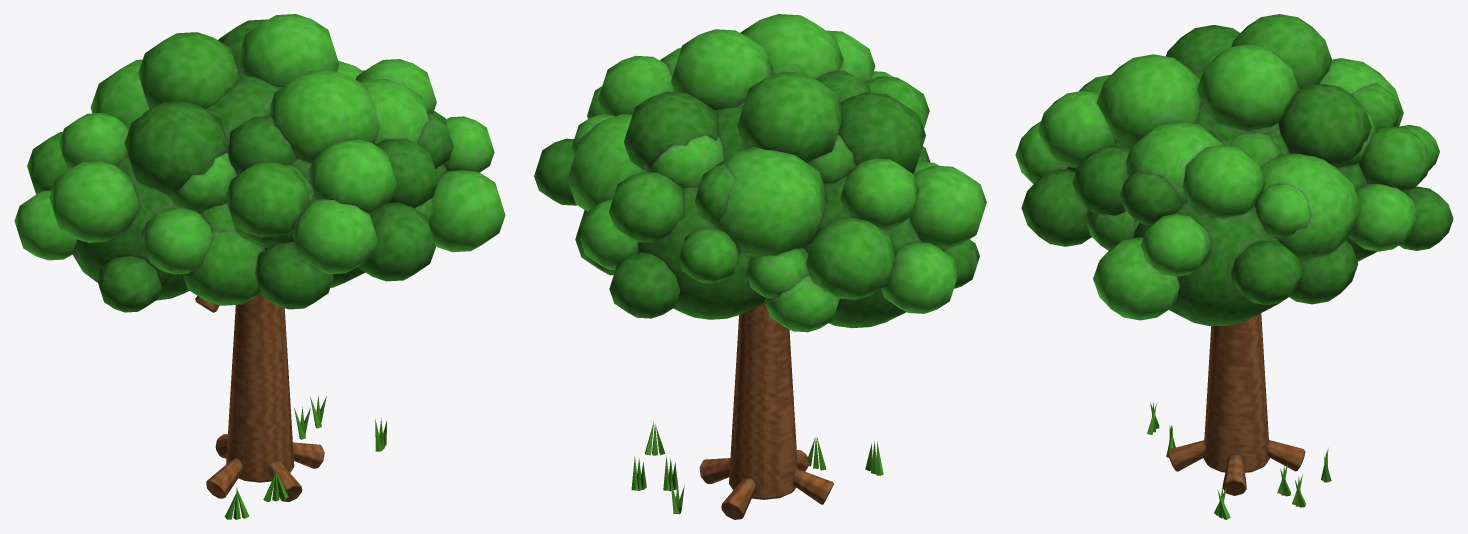
Rendered from cashew_tree.glb.
The picture shows the model from 3 angles, left to right: view 1: azimuth 30°, elevation 25°; view 2: azimuth 150°, elevation 25°; view 3: azimuth 270°, elevation 25°; orthographic projection. The views are drawn at different scales.
Parts seen in each view (by area): view 1: crown, cashew_tree; view 2: crown, cashew_tree; view 3: crown, cashew_tree.
Part boxes in pixels (x1=…): crown: x1=14, y1=14, x2=505, y2=312; cashew_tree: x1=195, y1=293, x2=386, y2=519; crown: x1=534, y1=14, x2=986, y2=332; cashew_tree: x1=631, y1=302, x2=883, y2=519; crown: x1=1015, y1=14, x2=1453, y2=325; cashew_tree: x1=1147, y1=313, x2=1331, y2=519.
Bounding box in the file's own units: 1.27 × 1.3 × 1.17.
Materials: 1 (1 with a texture image).
